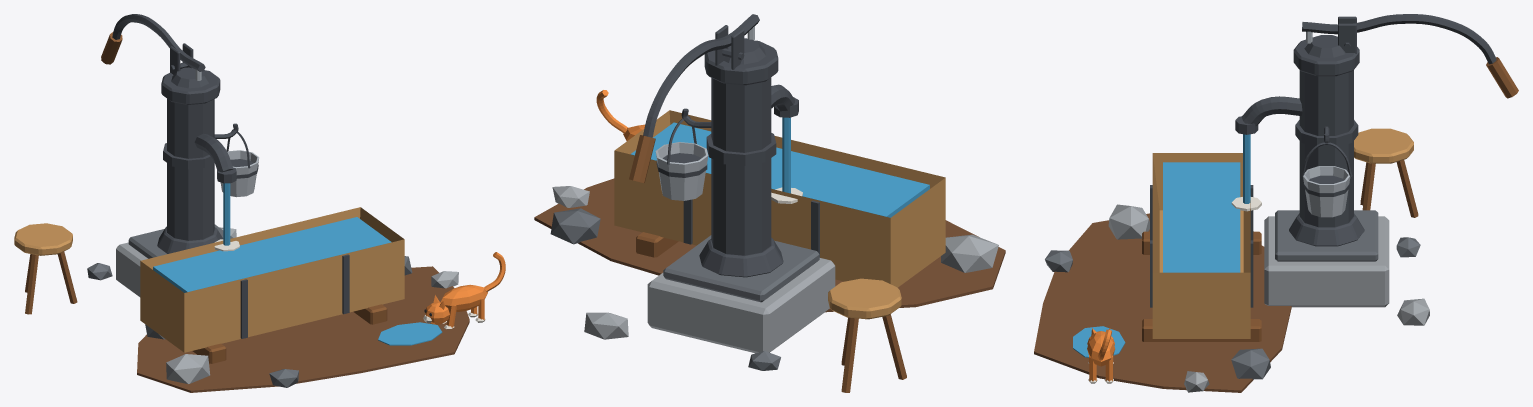
Rendered from farm-water-pump.glb.
3 views of the same model, side by side, from view 1: azimuth 30°, elevation 25°; view 2: azimuth 150°, elevation 25°; view 3: azimuth 270°, elevation 25° (orthographic). The views are drawn at different scales.
Parts seen in each view (by area): view 1: Trough, MudPatch, TroughWater, PumpBody, StoolSeat, PumpCap, Puddle, PumpBase, Stone_1, PumpHandle, Bucket, Cat_Body (+13 smaller); view 2: Trough, PumpBase, PumpBody, MudPatch, TroughWater, PumpBaseTop, StoolSeat, Bucket, PumpFoot, PumpCap, PumpHandle, Stone_1 (+17 smaller); view 3: MudPatch, Trough, TroughWater, PumpBase, PumpBody, PumpBaseTop, PumpHandle, StoolSeat, Bucket, PumpFoot, PumpCap, Stone_1 (+15 smaller).
Boxes of the visible parts, x1=… form: Trough: x1=140, y1=207, x2=404, y2=352; MudPatch: x1=137, y1=266, x2=469, y2=392; TroughWater: x1=153, y1=217, x2=391, y2=292; PumpBody: x1=167, y1=99, x2=214, y2=240; StoolSeat: x1=14, y1=223, x2=72, y2=255; PumpCap: x1=161, y1=70, x2=220, y2=104; Puddle: x1=378, y1=322, x2=442, y2=345; PumpBase: x1=116, y1=242, x2=147, y2=297; Stone_1: x1=166, y1=354, x2=210, y2=384; PumpHandle: x1=112, y1=14, x2=205, y2=71; Bucket: x1=220, y1=150, x2=259, y2=197; Cat_Body: x1=440, y1=284, x2=487, y2=311; Trough: x1=614, y1=110, x2=945, y2=287; PumpBase: x1=647, y1=258, x2=835, y2=353; PumpBody: x1=711, y1=77, x2=771, y2=255; MudPatch: x1=534, y1=178, x2=1005, y2=312; TroughWater: x1=630, y1=122, x2=929, y2=217; PumpBaseTop: x1=663, y1=235, x2=819, y2=302; StoolSeat: x1=828, y1=278, x2=901, y2=319; Bucket: x1=655, y1=142, x2=708, y2=200; PumpFoot: x1=699, y1=237, x2=783, y2=277; PumpCap: x1=704, y1=40, x2=778, y2=85; PumpHandle: x1=643, y1=14, x2=759, y2=137; Stone_1: x1=941, y1=234, x2=998, y2=272; MudPatch: x1=1034, y1=213, x2=1291, y2=392; Trough: x1=1152, y1=153, x2=1250, y2=338; TroughWater: x1=1163, y1=162, x2=1240, y2=272; PumpBase: x1=1264, y1=216, x2=1389, y2=307; PumpBody: x1=1299, y1=70, x2=1353, y2=227; PumpBaseTop: x1=1275, y1=210, x2=1378, y2=261; PumpHandle: x1=1302, y1=14, x2=1496, y2=64; StoolSeat: x1=1354, y1=128, x2=1413, y2=163; Bucket: x1=1303, y1=166, x2=1350, y2=217; PumpFoot: x1=1289, y1=213, x2=1364, y2=246; PumpCap: x1=1293, y1=37, x2=1359, y2=76; Stone_1: x1=1108, y1=204, x2=1149, y2=239.
Bounding box in the file's own units: 8.58 × 5.44 × 8.92.
